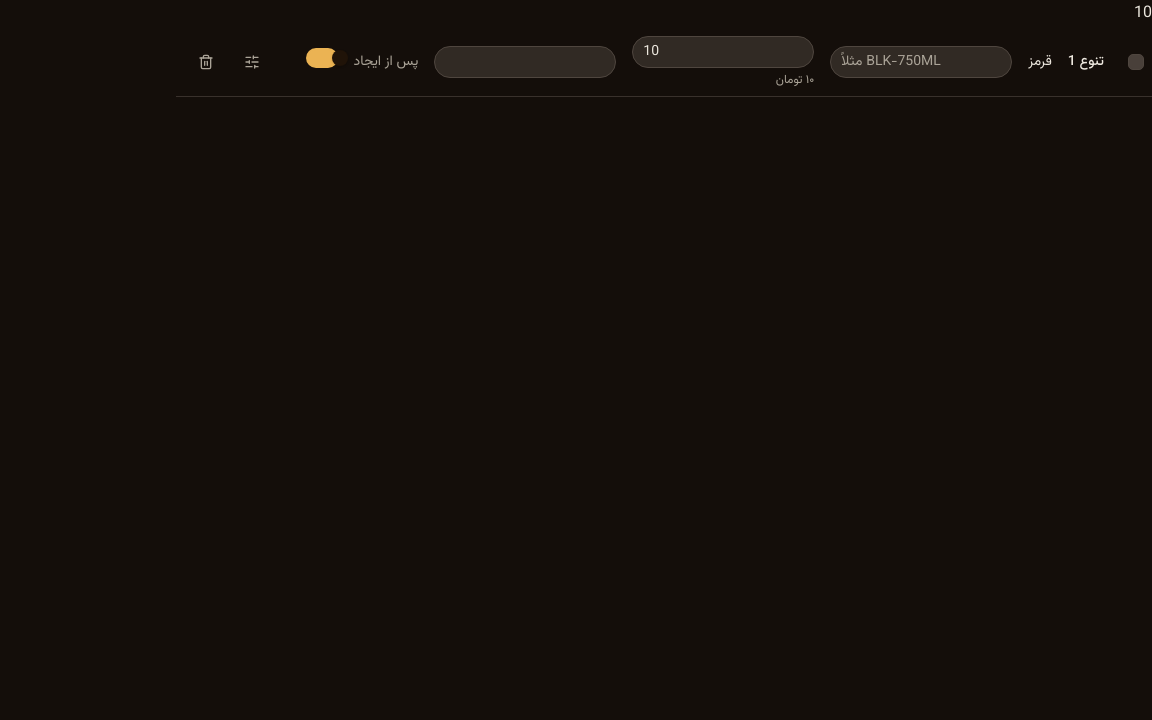
VariantRow as a grid row › reads option columns and edits them from the row's popover
Click the button named "ویرایش ویژگی‌های تنوع 1". click: [252, 62]
box: [230, 40, 274, 84]
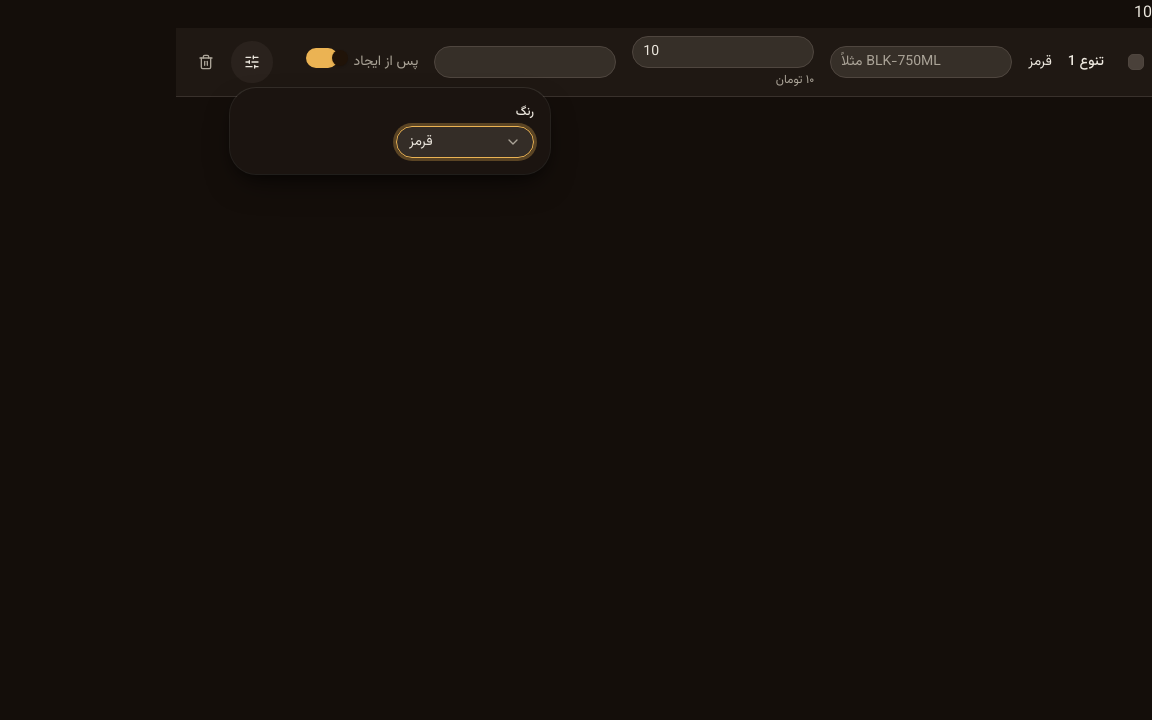
Click the dropdown named "رنگ". click: [465, 142]
box: [396, 126, 534, 158]
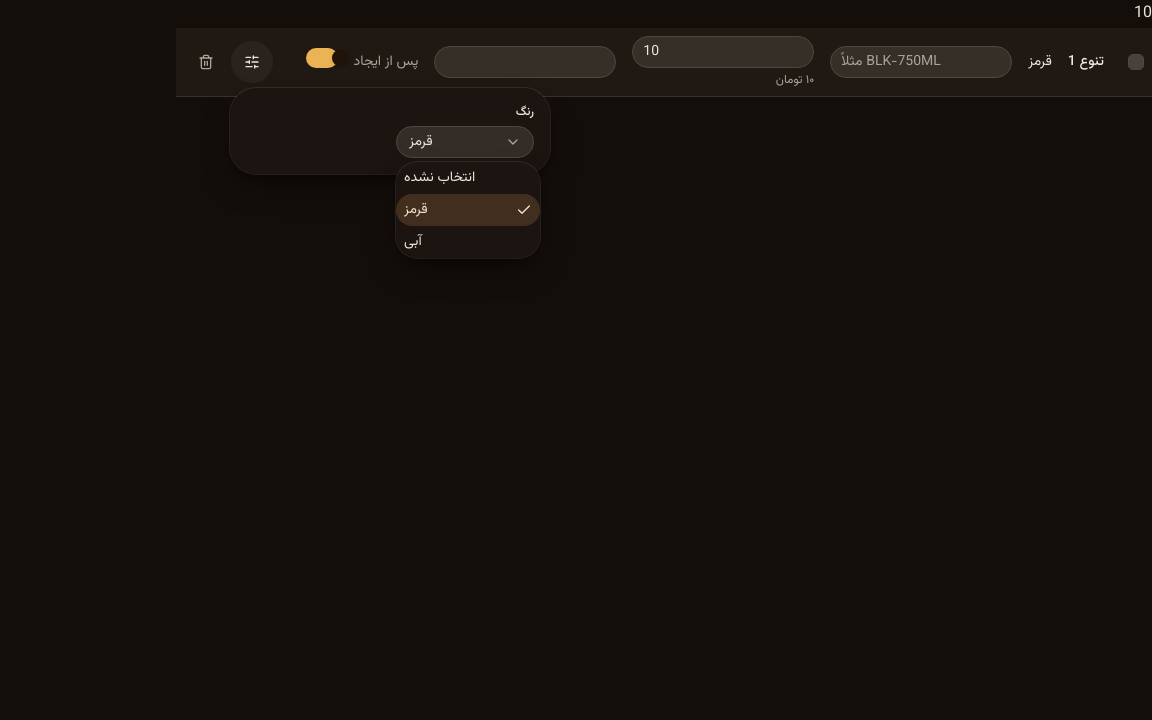
Click the option "آبی". click: [413, 242]
box: [404, 231, 422, 253]
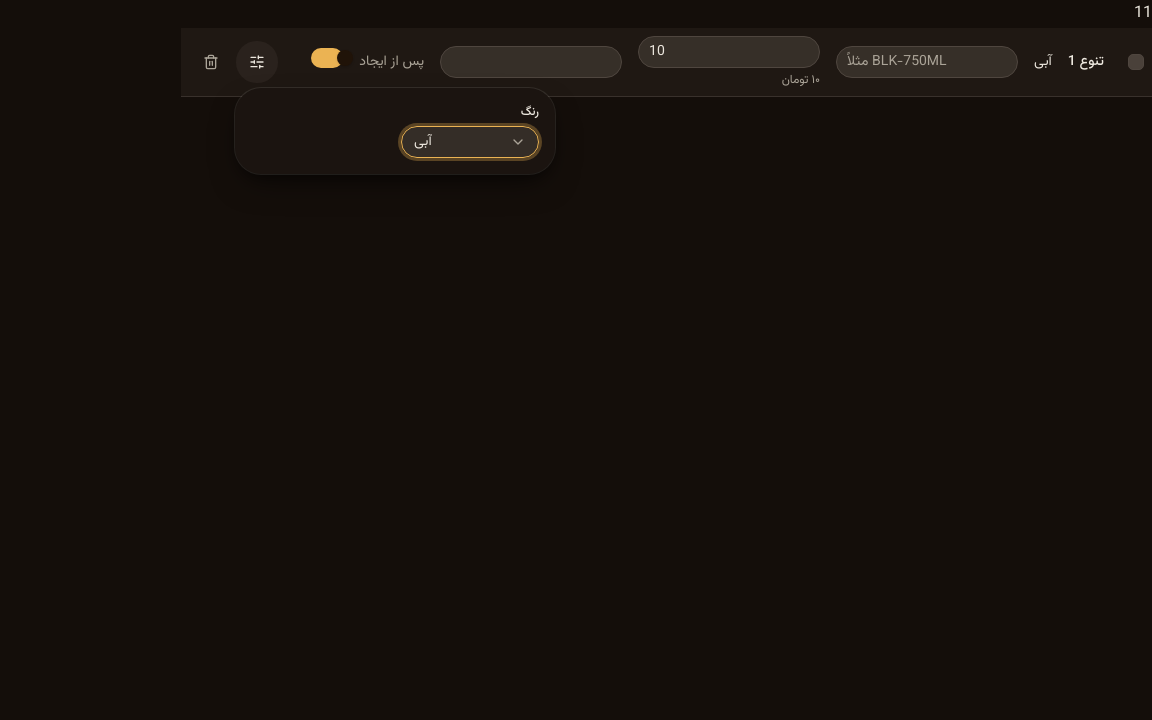
Now the text with test id "selected-options" reads "11", box [1134, 1, 1151, 26]
